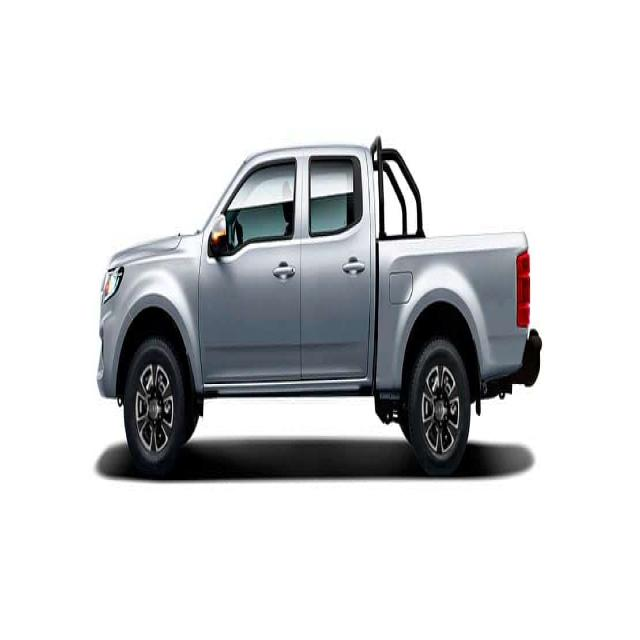CMT: (96, 141, 541, 479)
